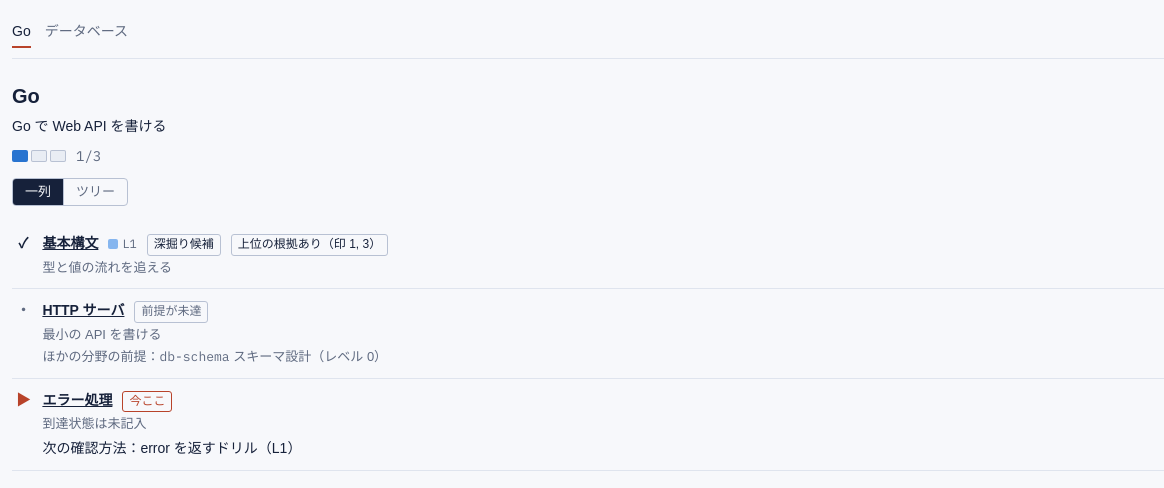
Scenario: 学習パス・一列表示 › 分野のタブを押すと、その分野の学習パスに切り替わる
What coordinates should you click on to do the following:
click the link "データベース"
I would click on:
 (86, 31)
Its box is [45, 23, 128, 39].
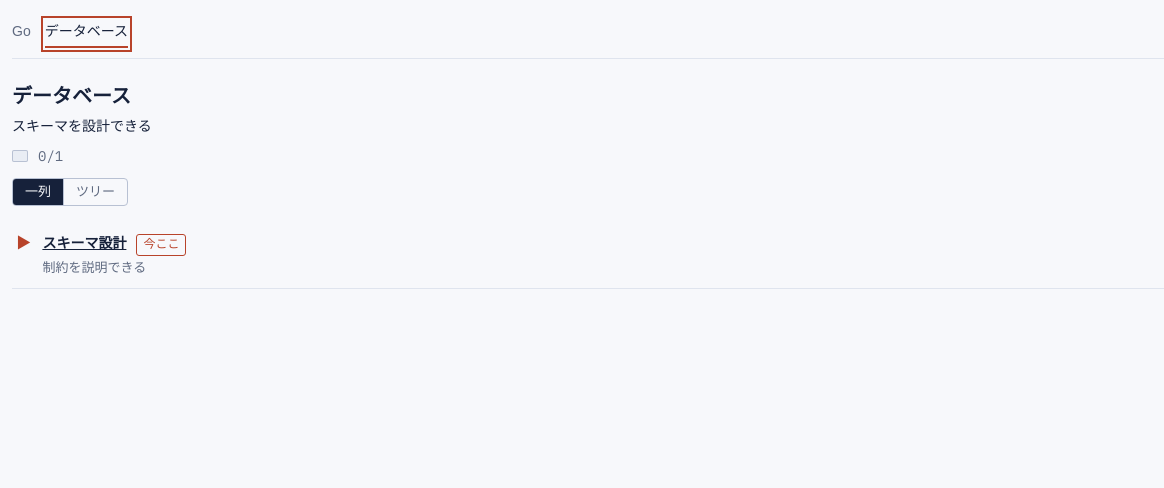
Check: the heading "データベース" is shown, box [12, 85, 131, 107]
